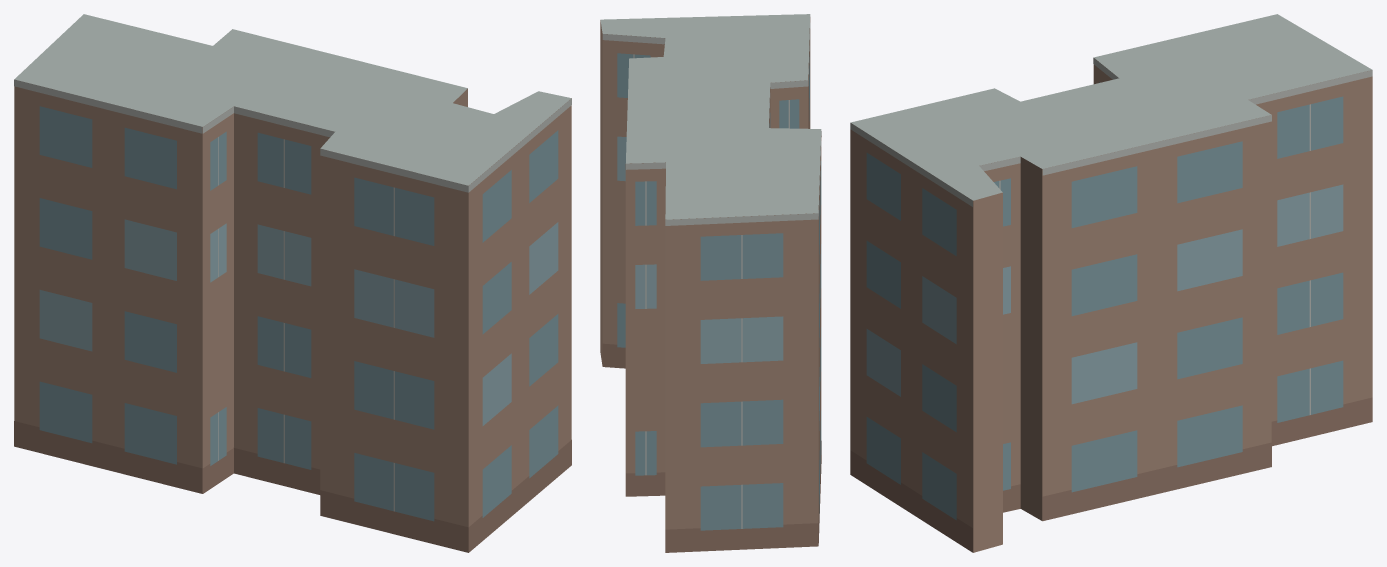
The model's file is survey-upis-32763184.glb.
The picture shows the model from 3 angles, left to right: view 1: azimuth 30°, elevation 25°; view 2: azimuth 150°, elevation 25°; view 3: azimuth 270°, elevation 25°; orthographic projection. The views are drawn at different scales.
Parts seen in each view (by area): view 1: survey-upis-32763184.tmp; view 2: survey-upis-32763184.tmp; view 3: survey-upis-32763184.tmp.
Part boxes in pixels (x1,y1,x2,y2): survey-upis-32763184.tmp: (14,14,571,552); survey-upis-32763184.tmp: (600,14,821,552); survey-upis-32763184.tmp: (850,14,1372,552).
Size of the model in its own units: 14.74 by 12.95 by 17.41.
